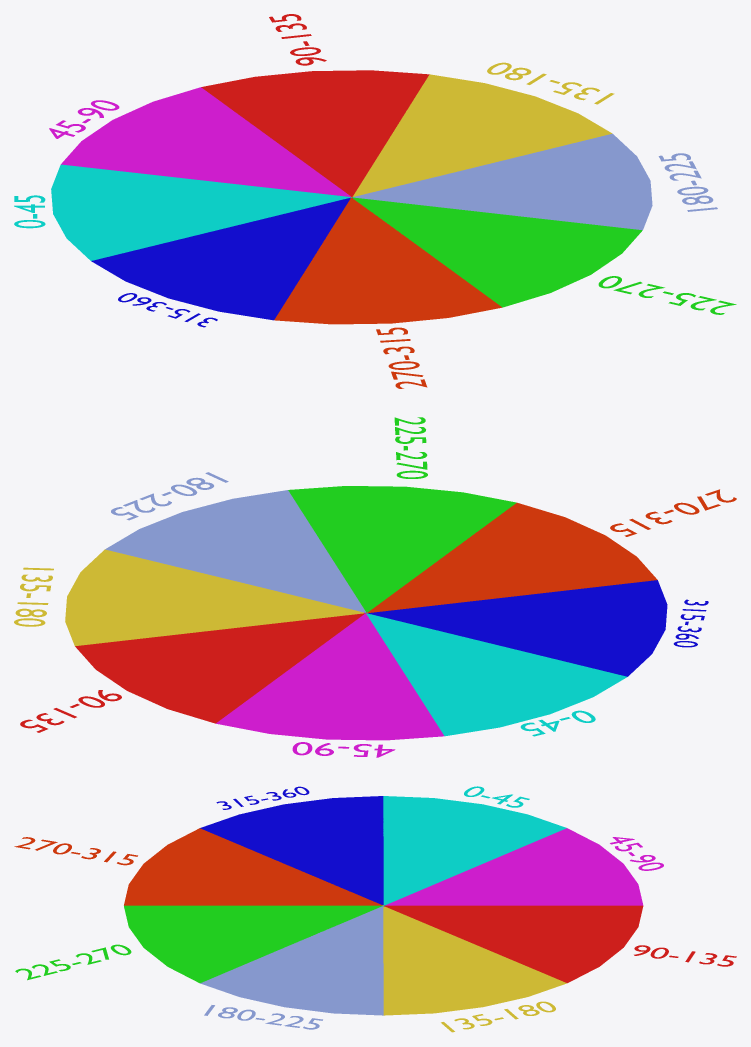
The model's file is groundRef.glb.
3 views of the same model, one above another, from view 1: azimuth 30°, elevation 25°; view 2: azimuth 150°, elevation 25°; view 3: azimuth 270°, elevation 25° (orthographic). The views are drawn at different scales.
Visible parts, largest first — view 1: Text.005, Text.006, Text.007, Text.004, Text.003, Text.002, 0-45, Text.008; view 2: Text.004, Text.005, Text.006, Text.007, Text.003, Text.002, Text.008, 0-45; view 3: Text.006, Text.003, Text.005, Text.004, Text.007, Text.002, Text.008, 0-45.
Part boxes in pixels (box(x1,y1,x2,y2)): Text.005: box(354, 133, 717, 230); Text.006: box(352, 197, 736, 314); Text.007: box(274, 198, 501, 388); Text.004: box(351, 62, 614, 197); Text.003: box(201, 14, 429, 198); Text.002: box(49, 87, 350, 196); 0-45: box(14, 164, 353, 260); Text.008: box(91, 198, 350, 327); Text.004: box(14, 549, 363, 646); Text.005: box(105, 472, 367, 612); Text.006: box(288, 417, 516, 612); Text.007: box(364, 489, 736, 613); Text.003: box(20, 613, 365, 732); Text.002: box(216, 612, 444, 757); Text.008: box(368, 580, 708, 676); 0-45: box(365, 612, 627, 736); Text.006: box(15, 905, 382, 983); Text.003: box(384, 905, 736, 983); Text.005: box(200, 906, 383, 1029); Text.004: box(382, 905, 566, 1032); Text.007: box(14, 828, 384, 905); Text.002: box(383, 828, 663, 906); Text.008: box(200, 786, 385, 905); 0-45: box(382, 786, 566, 906).
Bounding box in the file's own units: 9.7 × 0.00994 × 12.04.
